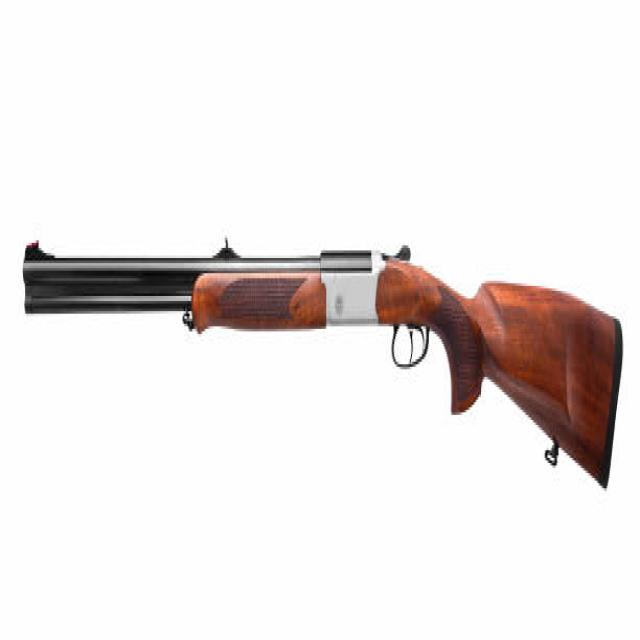rifle: (18, 219, 630, 503)
